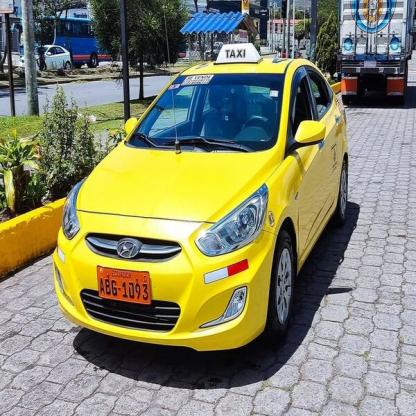Placa: (92, 262, 156, 312)
